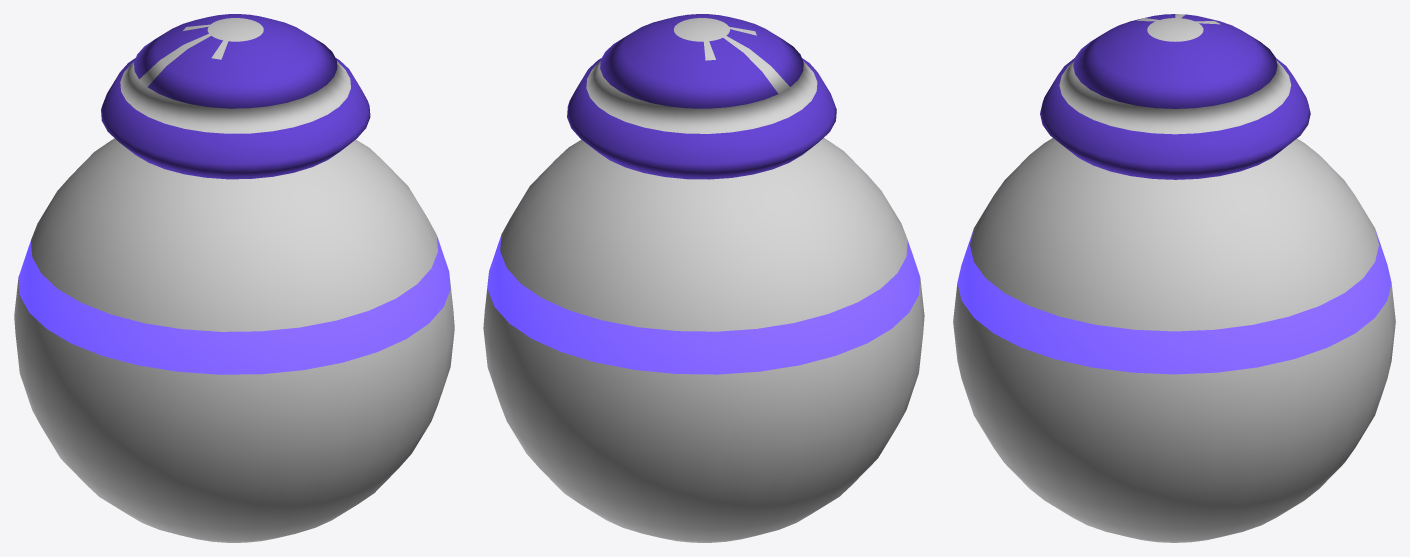
Rendered from droid.fbx.
3 views of the same model, side by side, from view 1: azimuth 30°, elevation 25°; view 2: azimuth 150°, elevation 25°; view 3: azimuth 270°, elevation 25° (orthographic).
Visible parts, largest first — view 1: Sphere, Sphere.001; view 2: Sphere, Sphere.001; view 3: Sphere, Sphere.001.
Boxes of the visible parts, left/top/right/bottom form: Sphere: left=14, top=138, right=454, bottom=542; Sphere.001: left=101, top=14, right=370, bottom=179; Sphere: left=483, top=138, right=924, bottom=542; Sphere.001: left=567, top=14, right=836, bottom=179; Sphere: left=953, top=138, right=1395, bottom=542; Sphere.001: left=1040, top=14, right=1310, bottom=179.
Size of the model in its own units: 2 by 2.47 by 2.
